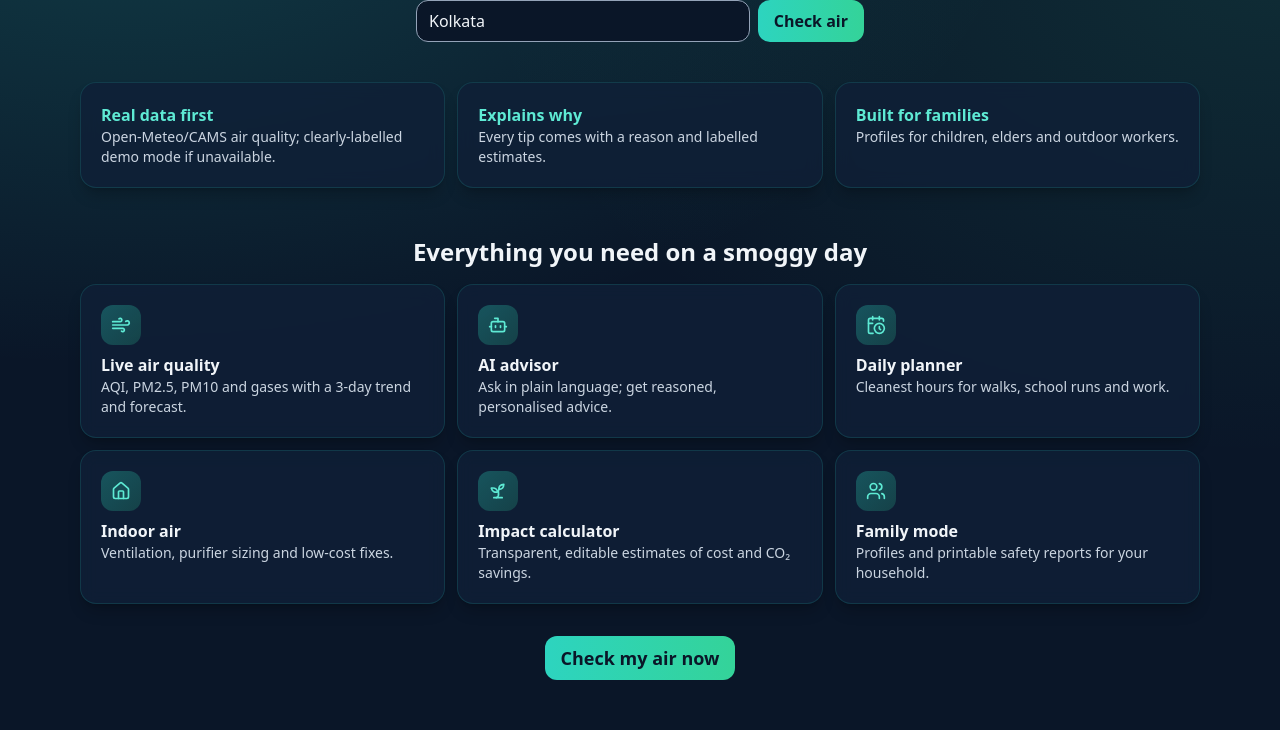
Test: air quality dashboard › shows accessible placeholders for missing pollutants and N/A for unknown AQI
(page scrolled)
Click the button "Check my air now" at point(640, 658), box [545, 636, 736, 680]
(page scrolled)
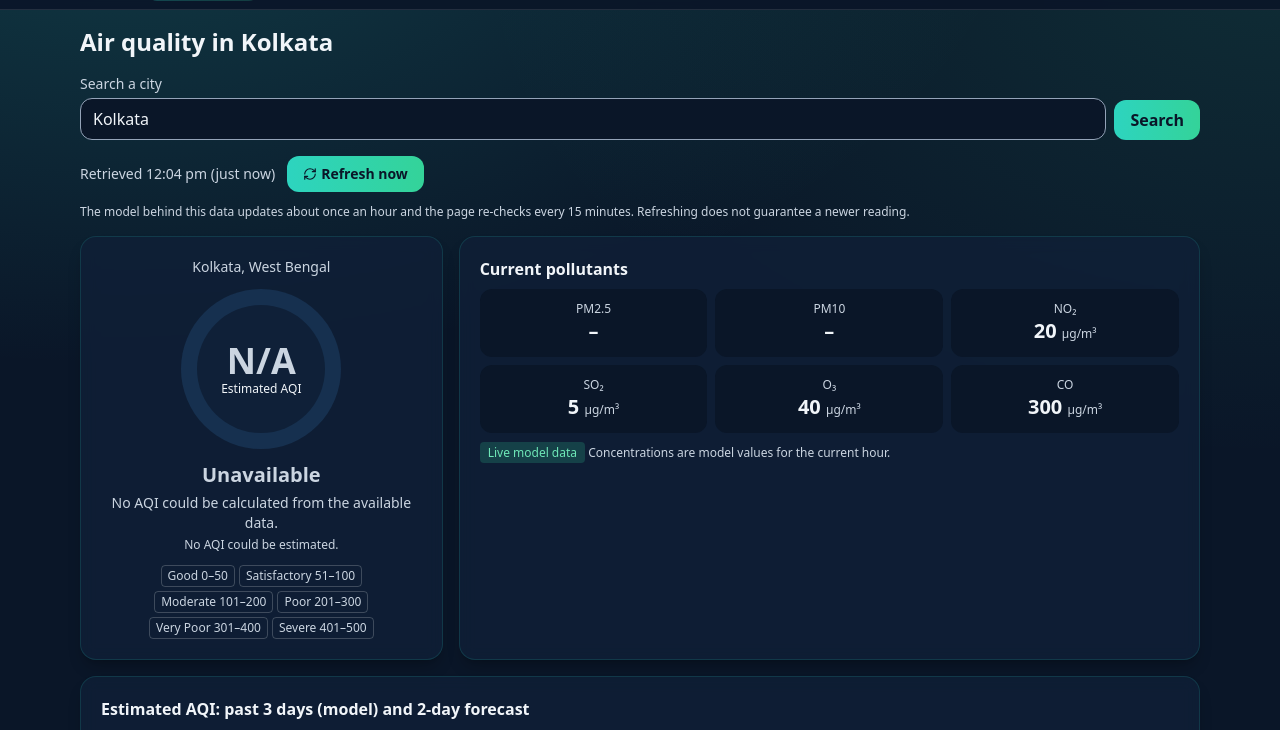
Expected: the heading "Air quality in Kolkata" is shown, [80, 25, 333, 58]
Expected: the text "N/A" is shown, [221, 341, 302, 381]
Expected: the text "No AQI could be calculated from the available data." is shown, [101, 493, 422, 533]
